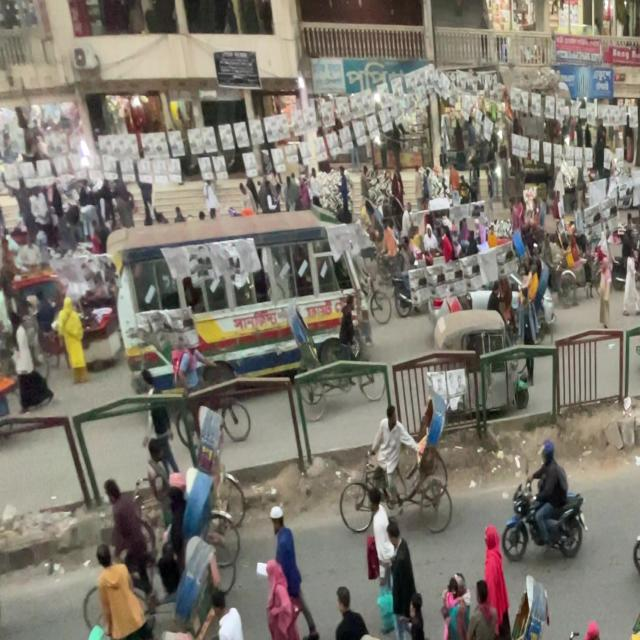bus: (108, 213, 374, 401), (551, 75, 554, 123)
motorbike: (338, 446, 454, 543), (507, 495, 588, 559), (627, 506, 640, 570)
rickshaw: (630, 253, 640, 368)
